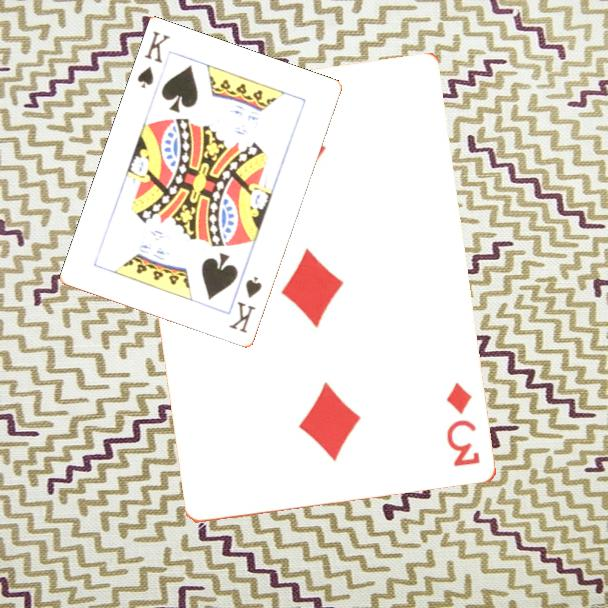d03: (443, 379, 484, 470)
s13: (226, 273, 265, 336), (134, 28, 173, 91)
